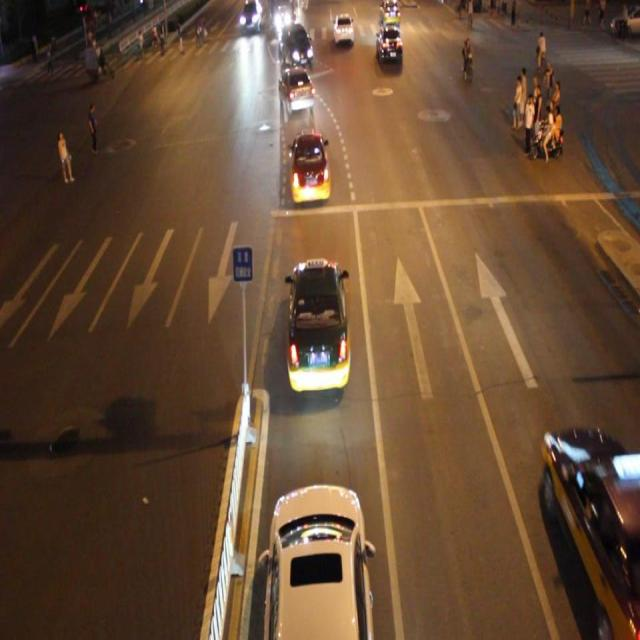car: (541, 424, 640, 640), (263, 481, 374, 640), (287, 258, 349, 387), (290, 130, 331, 202), (278, 67, 314, 113), (280, 23, 313, 68), (376, 25, 402, 67), (333, 12, 354, 44)
